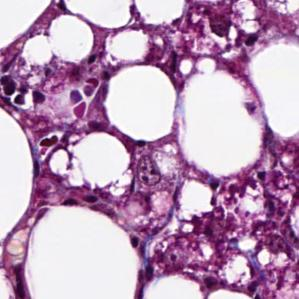inflammation: (206, 17, 259, 52), (0, 72, 46, 112), (207, 174, 250, 215), (68, 77, 106, 122)
